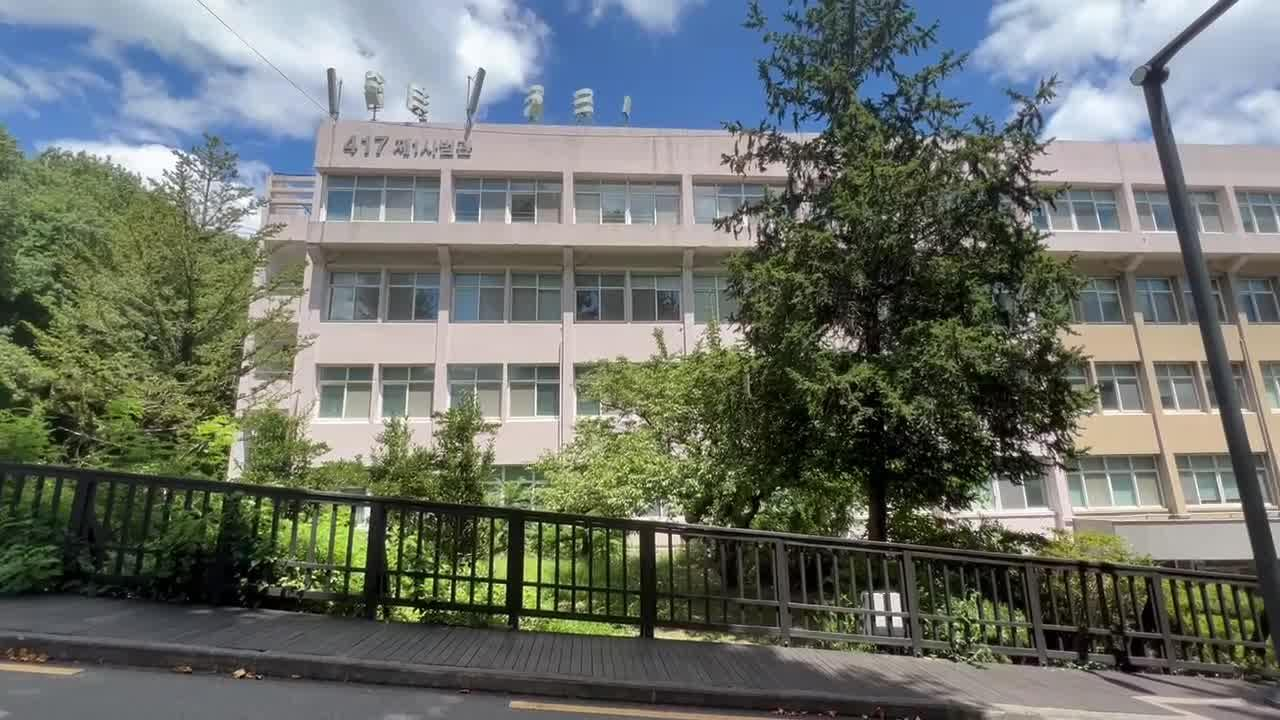building: (241, 77, 661, 434)
